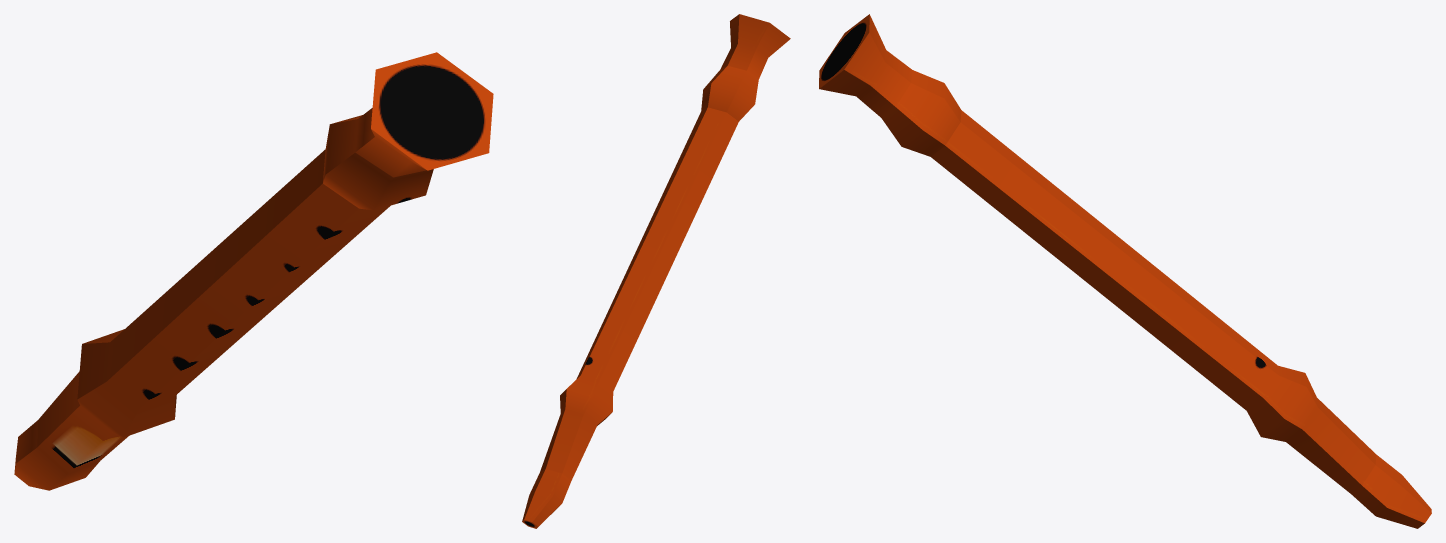
Rendered from Flauta2_000013.obj.
3 views of the same model, side by side, from view 1: azimuth 30°, elevation 25°; view 2: azimuth 150°, elevation 25°; view 3: azimuth 270°, elevation 25° (orthographic). The views are drawn at different scales.
Visible parts, largest first — view 1: f2_Flauta_1:pCylinder3; view 2: f2_Flauta_1:pCylinder3; view 3: f2_Flauta_1:pCylinder3.
Part boxes in pixels (left/top/right/bottom): f2_Flauta_1:pCylinder3: left=14, top=52, right=493, bottom=490; f2_Flauta_1:pCylinder3: left=522, top=14, right=790, bottom=528; f2_Flauta_1:pCylinder3: left=819, top=14, right=1431, bottom=528.
Size of the model in its own units: 0.6938 by 3.59 by 4.05.
